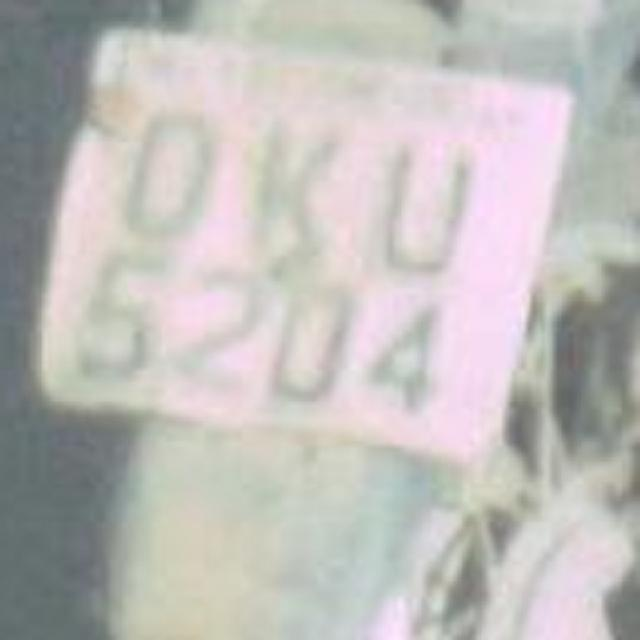0: (244, 252, 368, 420)
2: (164, 248, 284, 412)
4: (352, 265, 472, 440), (1, 1, 1, 2)
5: (51, 228, 184, 404)
B: (216, 92, 352, 292)
O: (104, 80, 228, 255)
U: (348, 109, 492, 296)
